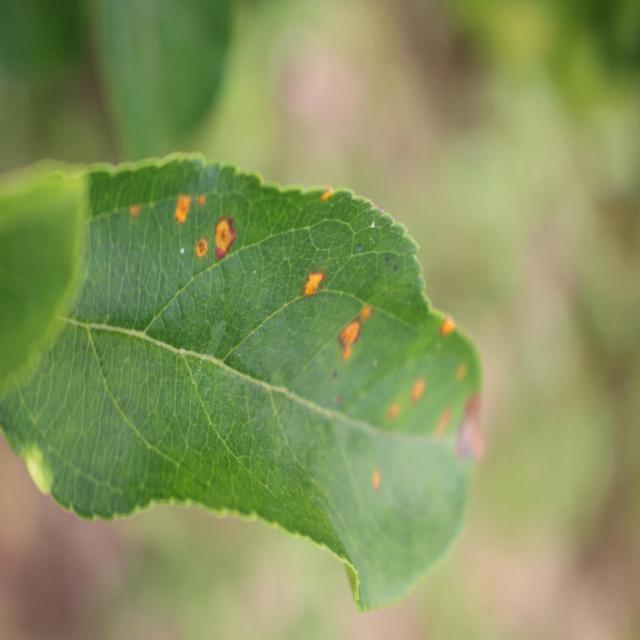Rust: (456, 390, 489, 479), (337, 299, 375, 364), (211, 208, 240, 269), (169, 185, 195, 231), (436, 403, 456, 452), (406, 372, 429, 410), (303, 268, 328, 300), (448, 357, 472, 388), (124, 192, 144, 222), (440, 310, 457, 342), (372, 464, 385, 496), (319, 182, 337, 205), (193, 239, 209, 264), (386, 399, 398, 432), (198, 186, 206, 210)
